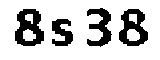3: (80, 3, 115, 52)
8: (12, 5, 45, 50), (118, 7, 150, 53)
s: (47, 17, 81, 50)
